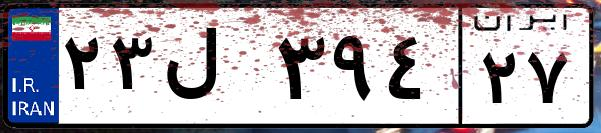2: (57, 26, 110, 100), (475, 38, 525, 113)
3: (270, 28, 330, 110), (110, 28, 158, 98)
4: (385, 28, 445, 110)
7: (525, 38, 570, 115)
9: (330, 28, 385, 110)
ل: (158, 20, 270, 120)
